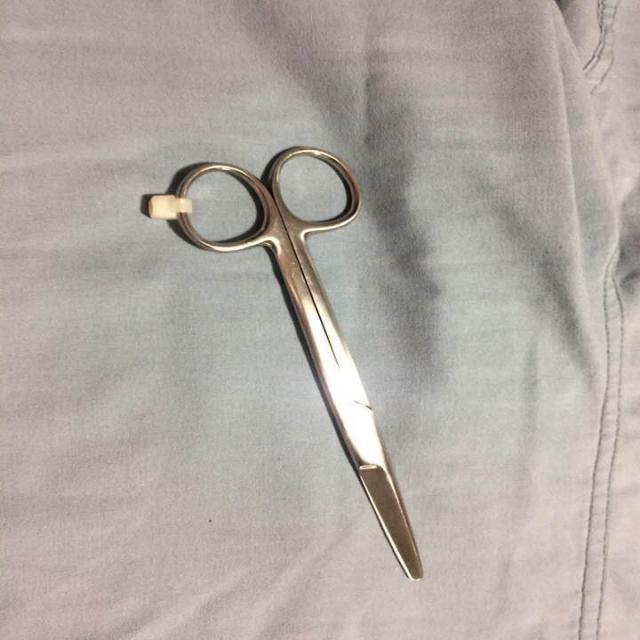Mayo_metz: (160, 145, 430, 584)
